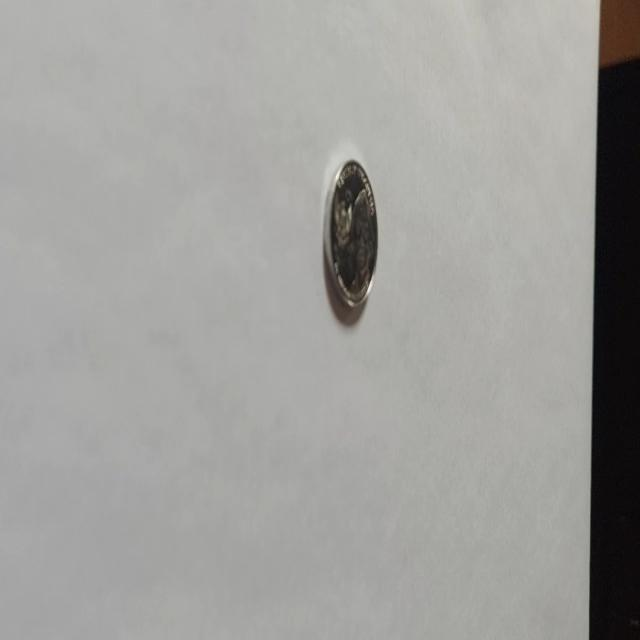dua ratus rupiah: (322, 157, 378, 310)
